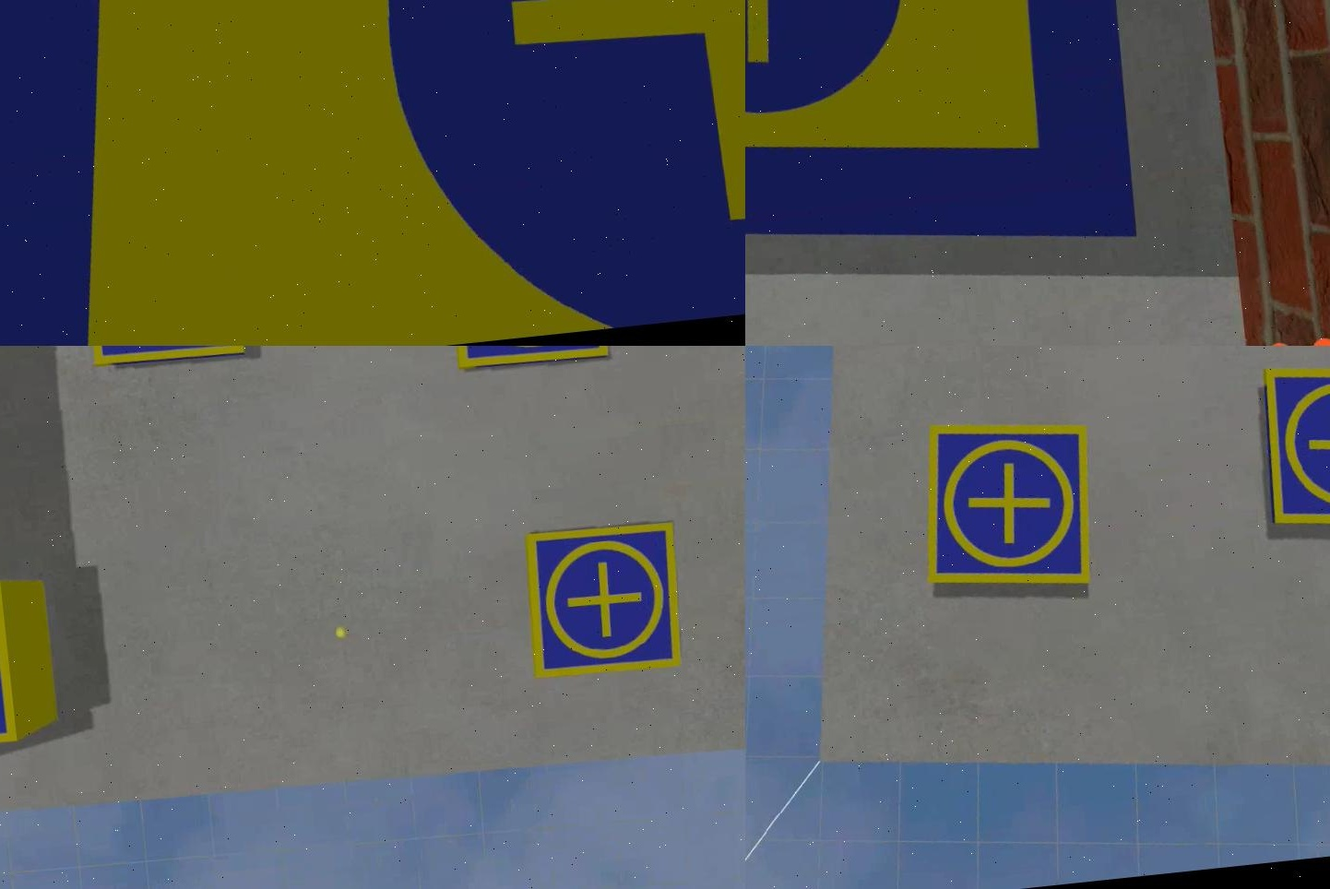large_base: (0, 1, 744, 347), (744, 1, 1149, 319)
small_base: (909, 408, 1103, 608), (517, 517, 689, 684), (1253, 352, 1328, 546), (446, 347, 612, 374), (84, 347, 247, 367)
